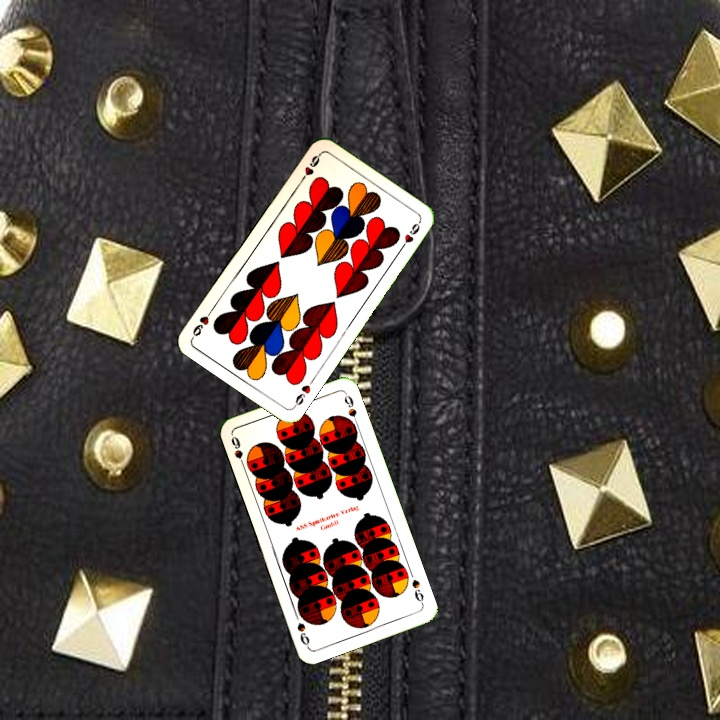H9: (296, 150, 323, 186), (289, 380, 313, 410)
S9: (227, 432, 248, 472), (408, 575, 426, 607)
